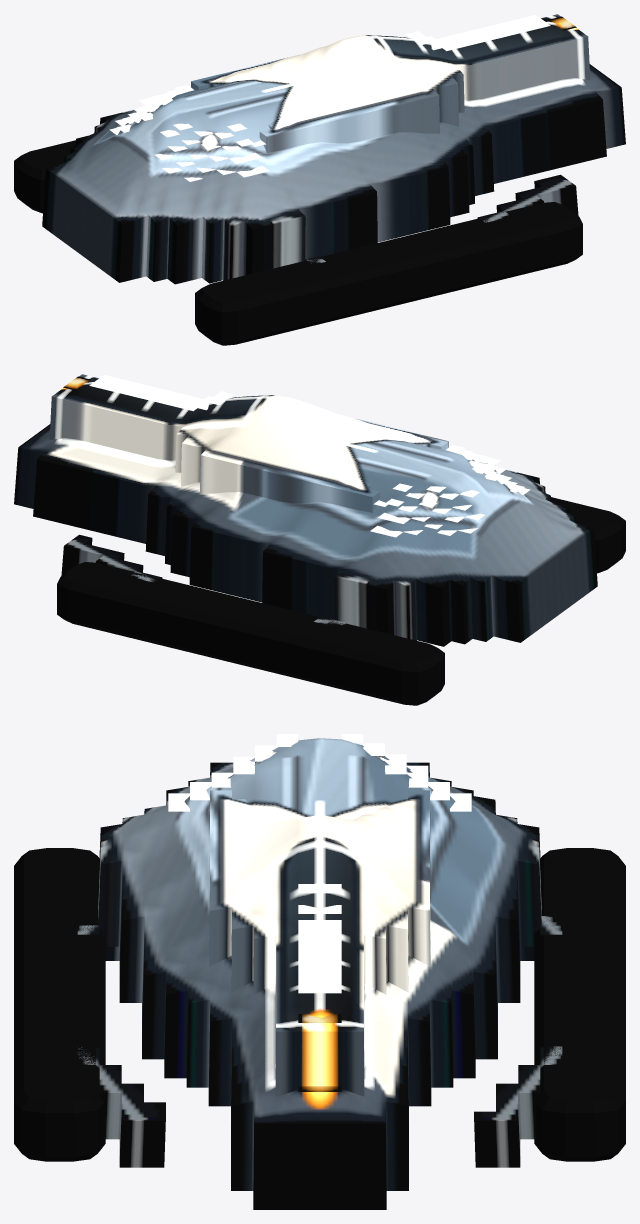
3 renders of one model, top to bottom at view 1: azimuth 30°, elevation 25°; view 2: azimuth 150°, elevation 25°; view 3: azimuth 270°, elevation 25°, orthographic. The views are drawn at different scales.
Parts seen in each view (by area): view 1: chassis-heightfield, long-rail-relief, locomotion-right, semantic-team-surfaces, locomotion-left, underbody-layered-relief; view 2: chassis-heightfield, long-rail-relief, locomotion-left, semantic-team-surfaces, locomotion-right, underbody-layered-relief; view 3: chassis-heightfield, long-rail-relief, locomotion-right, locomotion-left, underbody-layered-relief, semantic-team-surfaces.
Part boxes in pixels (<box>): chassis-heightfield: <box>42,64,625,284</box>; long-rail-relief: <box>191,14,590,152</box>; locomotion-right: <box>195,202,582,345</box>; semantic-team-surfaces: <box>109,15,550,181</box>; locomotion-left: <box>14,140,75,213</box>; underbody-layered-relief: <box>305,174,578,263</box>; chassis-heightfield: <box>14,424,597,646</box>; long-rail-relief: <box>49,374,448,512</box>; locomotion-left: <box>57,562,444,705</box>; semantic-team-surfaces: <box>89,375,530,537</box>; locomotion-right: <box>551,497,625,573</box>; underbody-layered-relief: <box>61,534,347,627</box>; chassis-heightfield: <box>98,738,541,1209</box>; long-rail-relief: <box>209,790,430,1096</box>; locomotion-right: <box>14,848,105,1161</box>; locomotion-left: <box>534,848,625,1161</box>; underbody-layered-relief: <box>77,916,562,1167</box>; semantic-team-surfaces: <box>168,734,471,993</box>.
Bounding box in the file's own units: 0.9 × 0.29 × 0.635.
Materials: 5 (4 with a texture image).
